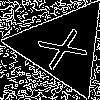X: (37, 22, 98, 72)
